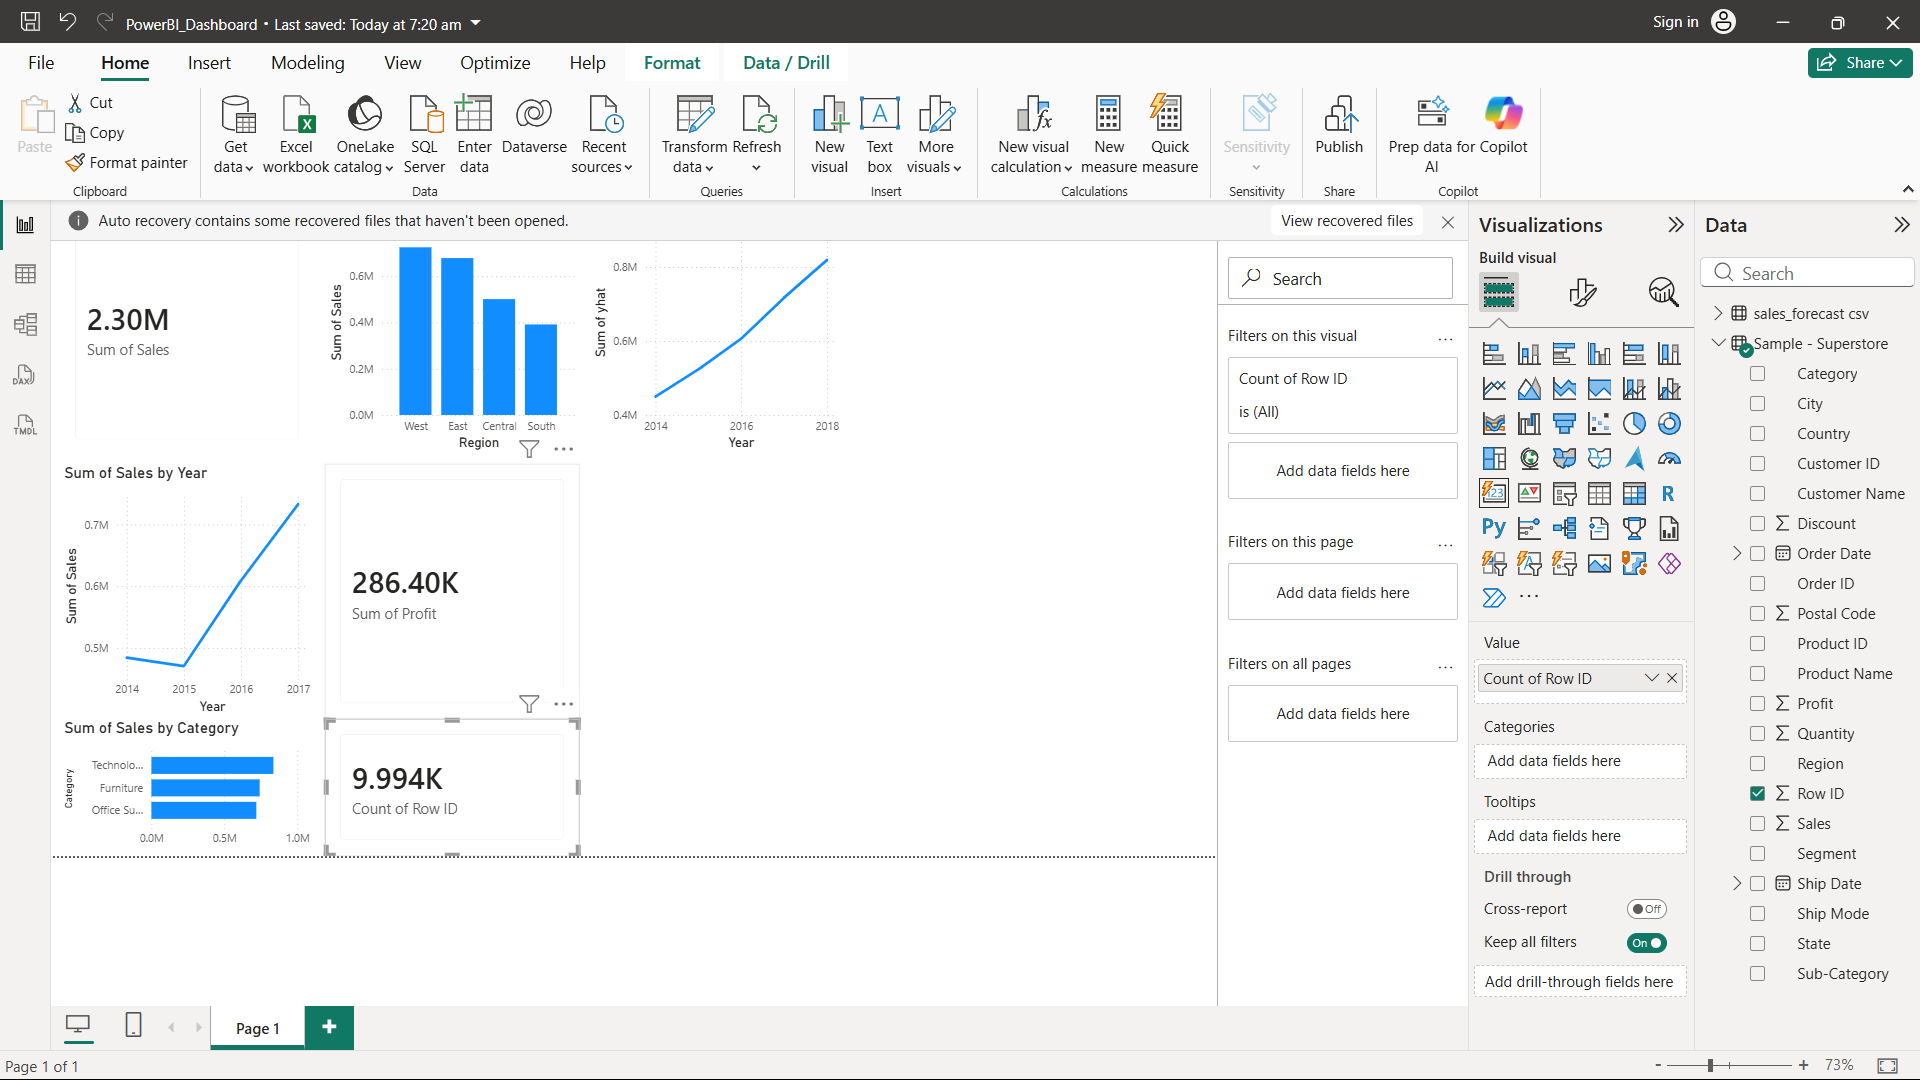

The dashboard page shown, as its layout file describes it:
{"tool":"powerbi","page":{"name":"Page 1","canvas":[1280,720],"ordinal":0},"visuals":[{"type":"cardVisual","fields":{"Data":["Sum(Sample - Superstore.Sales)"]},"box":[10,0,280,280],"z":0},{"type":"lineChart","fields":{"Category":["Sample - Superstore.Order Date.Variation.Date Hierarchy.Year","Sample - Superstore.Order Date.Variation.Date Hierarchy.Quarter","Sample - Superstore.Order Date.Variation.Date Hierarchy.Month","Sample - Superstore.Order Date.Variation.Date Hierarchy.Day"],"Y":["Sum(Sample - Superstore.Sales)"]},"box":[10,290,280,280],"z":1000},{"type":"clusteredBarChart","fields":{"Category":["Sample - Superstore.Category"],"Y":["Sum(Sample - Superstore.Sales)"]},"box":[10,570,280,150],"z":2000},{"type":"clusteredColumnChart","fields":{"Category":["Sample - Superstore.Region"],"Y":["Sum(Sample - Superstore.Sales)"]},"box":[300,0,280,280],"z":3000},{"type":"cardVisual","fields":{"Data":["Sum(Sample - Superstore.Profit)"]},"box":[300,290,280,280],"z":4000},{"type":"lineChart","fields":{"Category":["sales_forecast csv.ds.Variation.Date Hierarchy.Year","sales_forecast csv.ds.Variation.Date Hierarchy.Quarter","sales_forecast csv.ds.Variation.Date Hierarchy.Month","sales_forecast csv.ds.Variation.Date Hierarchy.Day"],"Y":["Sum(sales_forecast csv.yhat)"]},"box":[590,0,280,280],"z":5000},{"type":"cardVisual","fields":{"Data":["CountNonNull(Sample - Superstore.Row ID)"]},"box":[300,570,280,150],"z":5001}]}

Visuals, with their boxes on the page's 1280x720 design canvas (x1, y1, x2, y2). These are canvas units, not pixel positions in the 1920x1080 screenshot, which may show the page scaled, cropped or inside an application window:
cardVisual - Sum(Sample - Superstore.Sales): bbox=(10, 0, 290, 280)
lineChart - Sample - Superstore.Order Date.Variation.Date Hierarchy.Year x Sample - Superstore.Order Date.Variation.Date Hierarchy.Quarter: bbox=(10, 290, 290, 570)
clusteredBarChart - Sample - Superstore.Category x Sum(Sample - Superstore.Sales): bbox=(10, 570, 290, 720)
clusteredColumnChart - Sample - Superstore.Region x Sum(Sample - Superstore.Sales): bbox=(300, 0, 580, 280)
cardVisual - Sum(Sample - Superstore.Profit): bbox=(300, 290, 580, 570)
lineChart - sales_forecast csv.ds.Variation.Date Hierarchy.Year x sales_forecast csv.ds.Variation.Date Hierarchy.Quarter: bbox=(590, 0, 870, 280)
cardVisual - CountNonNull(Sample - Superstore.Row ID): bbox=(300, 570, 580, 720)
